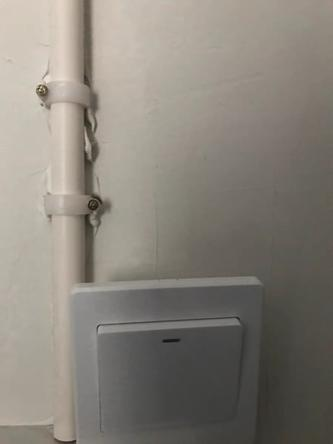switch: (88, 317, 255, 439)
